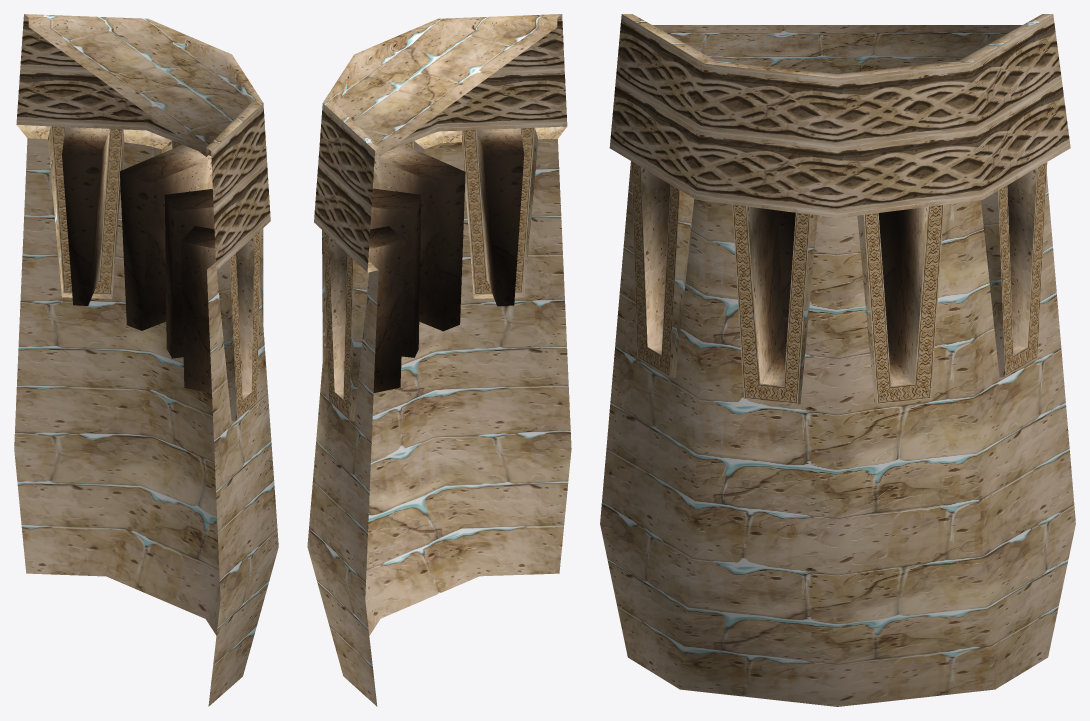
File: fortress02_04.obj
3 renders of one model, left to right at view 1: azimuth 30°, elevation 25°; view 2: azimuth 150°, elevation 25°; view 3: azimuth 270°, elevation 25°, orthographic. The views are drawn at different scales.
Visible parts, largest first — view 1: Geoset0, Geoset1, Geoset2, Geoset3; view 2: Geoset0, Geoset1, Geoset2, Geoset3; view 3: Geoset0, Geoset2, Geoset3, Geoset1.
Boxes of the visible parts, box(x1,y1,x2,y2) form: Geoset0: box(14, 14, 278, 706); Geoset1: box(62, 127, 254, 399); Geoset2: box(16, 14, 270, 270); Geoset3: box(51, 126, 260, 419); Geoset0: box(307, 14, 571, 706); Geoset1: box(329, 128, 524, 399); Geoset2: box(314, 14, 567, 272); Geoset3: box(323, 127, 534, 419); Geoset0: box(600, 14, 1075, 706); Geoset2: box(609, 14, 1070, 218); Geoset3: box(631, 161, 1047, 404); Geoset1: box(641, 167, 1037, 385).
Size of the model in its own units: 20.91 by 86.78 by 58.17.
4 materials, 4 textured.
